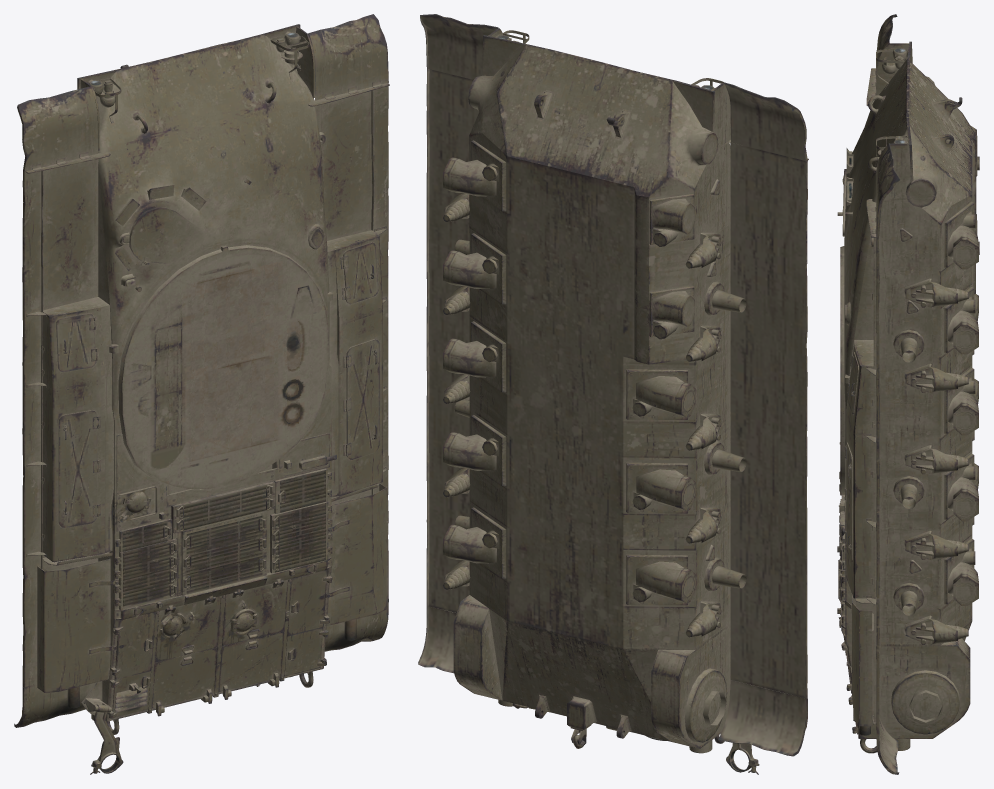
Rendered from Hull.glb.
3 renders of one model, left to right at view 1: azimuth 30°, elevation 25°; view 2: azimuth 150°, elevation 25°; view 3: azimuth 270°, elevation 25°, orthographic. The views are drawn at different scales.
Parts seen in each view (by area): view 1: set_0_group_0; view 2: set_0_group_0; view 3: set_0_group_0.
Part boxes in pixels (<box>): set_0_group_0: <box>14,14,389,774</box>; set_0_group_0: <box>418,14,808,774</box>; set_0_group_0: <box>837,14,979,774</box>.
Bounding box in the file's own units: 3.58 × 6.32 × 1.27.
1 material, 1 textured.
